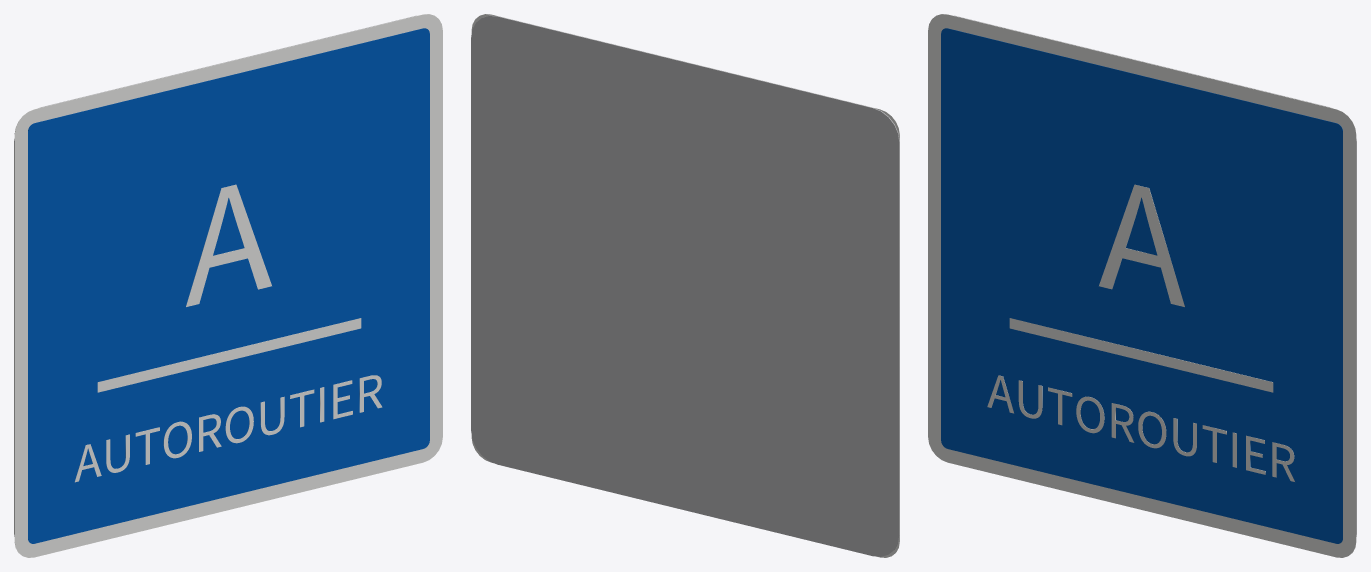
3 views of the same model, side by side, from view 1: azimuth 30°, elevation 25°; view 2: azimuth 150°, elevation 25°; view 3: azimuth 330°, elevation 25° (orthographic).
Visible parts, largest first — view 1: SC17_r01, SC17_r00, SC17_txt03, SC17_txt02, SC17_p04, SC17_dos; view 2: SC17_dos, SC17_r00; view 3: SC17_r01, SC17_r00, SC17_txt03, SC17_txt02, SC17_p04, SC17_dos.
Part boxes in pixels (x1,y1,x2,y2): SC17_r01: (28,28,429,543); SC17_r00: (14,14,442,557); SC17_txt03: (75,375,382,482); SC17_txt02: (186,184,271,306); SC17_p04: (97,318,361,392); SC17_dos: (14,15,416,536); SC17_dos: (471,15,899,556); SC17_r00: (471,14,899,557); SC17_r01: (941,28,1342,543); SC17_r00: (928,14,1356,557); SC17_txt03: (987,375,1294,481); SC17_txt02: (1099,184,1184,306); SC17_p04: (1009,318,1273,392); SC17_dos: (954,15,1356,536).
Bounding box in the file's own units: 0.65 × 0.65 × 0.0033.
